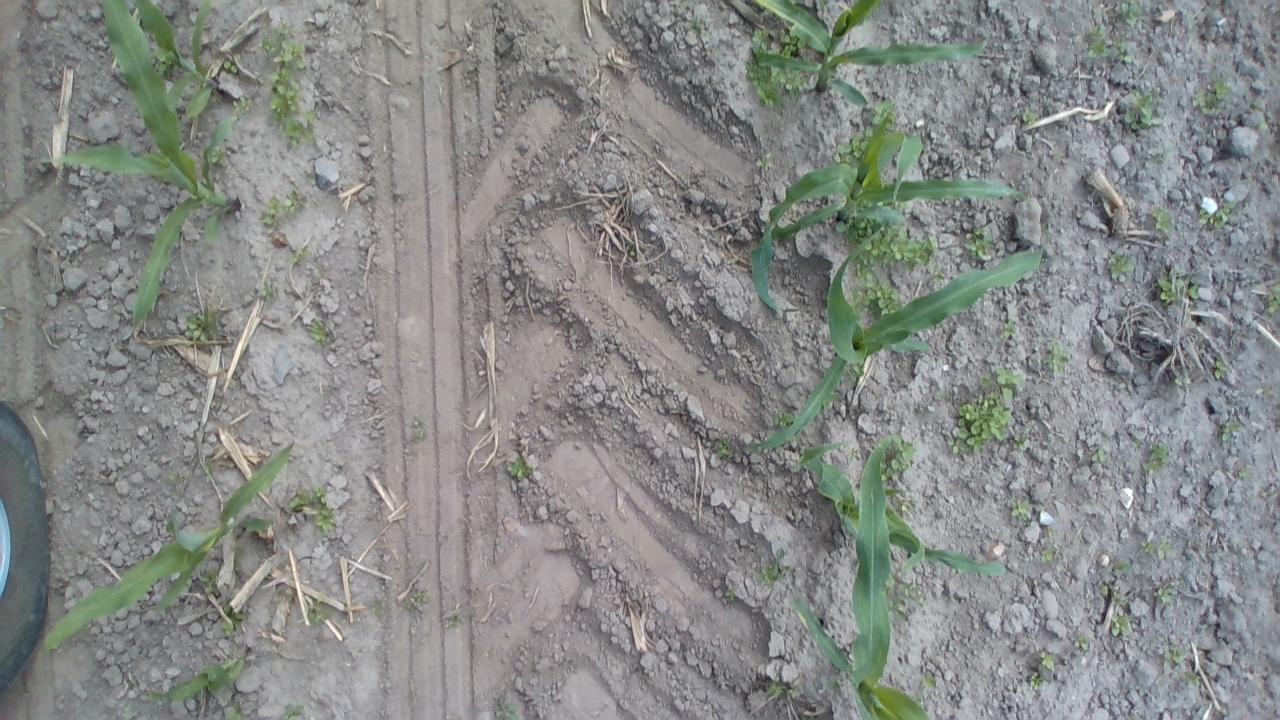Maize: (36, 0, 238, 346), (755, 231, 1045, 452), (748, 126, 1026, 317), (42, 445, 292, 656), (793, 448, 931, 720), (801, 441, 1007, 588), (750, 0, 987, 113), (129, 0, 218, 118), (148, 652, 245, 704)
Weeds: (836, 200, 947, 288), (937, 362, 1029, 455), (260, 20, 318, 146), (744, 29, 810, 110), (882, 565, 926, 625), (288, 483, 338, 531), (846, 280, 904, 318), (879, 434, 916, 483), (259, 189, 304, 226), (1153, 270, 1198, 306), (182, 305, 224, 343), (1193, 76, 1232, 116), (830, 128, 872, 165), (1118, 87, 1152, 130), (960, 221, 996, 258), (1136, 437, 1171, 474), (305, 591, 341, 625), (759, 550, 791, 584), (772, 406, 801, 442), (1042, 340, 1070, 375), (1109, 0, 1144, 26), (1086, 22, 1110, 58), (868, 98, 894, 131), (1200, 204, 1234, 229), (220, 604, 244, 636), (1108, 253, 1136, 280), (155, 52, 185, 76), (308, 318, 332, 348), (1142, 540, 1178, 560), (768, 681, 802, 700), (1218, 420, 1246, 443), (1008, 496, 1032, 520), (507, 457, 532, 480), (1150, 204, 1170, 232), (1115, 37, 1135, 65), (717, 431, 735, 460), (818, 390, 836, 417), (197, 572, 219, 594), (1160, 646, 1186, 664), (1154, 580, 1172, 606), (1111, 614, 1132, 636), (220, 52, 240, 75), (224, 701, 248, 720), (686, 16, 710, 35), (896, 495, 918, 515), (1266, 283, 1280, 314), (498, 700, 519, 720), (283, 701, 305, 720), (1038, 649, 1055, 673), (412, 414, 430, 436), (1110, 558, 1134, 574), (233, 94, 254, 112), (1212, 359, 1230, 380), (291, 244, 309, 264), (209, 146, 227, 166), (753, 438, 772, 456), (756, 152, 774, 170), (1039, 544, 1057, 562), (1182, 670, 1202, 686), (447, 607, 463, 626), (846, 445, 862, 464), (258, 280, 274, 298), (1110, 591, 1128, 607), (367, 600, 386, 615), (848, 362, 866, 377), (883, 484, 902, 498), (1002, 319, 1016, 338), (200, 462, 214, 481), (1022, 108, 1038, 124), (1072, 634, 1088, 650), (1040, 223, 1054, 241), (920, 670, 934, 688), (1088, 448, 1106, 462), (1028, 670, 1042, 687), (1172, 374, 1190, 386), (410, 591, 425, 605), (1255, 386, 1272, 398), (1155, 147, 1167, 161), (725, 586, 736, 601), (831, 676, 843, 689), (1043, 526, 1056, 538), (1237, 466, 1249, 478), (167, 472, 179, 482), (1096, 584, 1108, 594), (1259, 121, 1271, 130), (880, 176, 889, 184)
